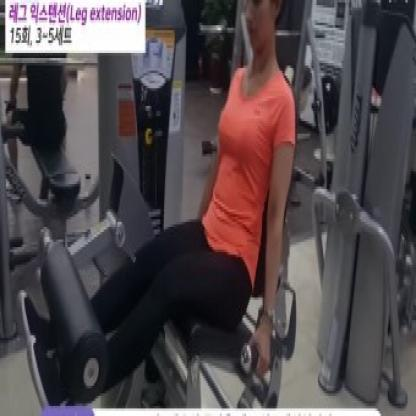leg extension: (0, 0, 318, 416)
